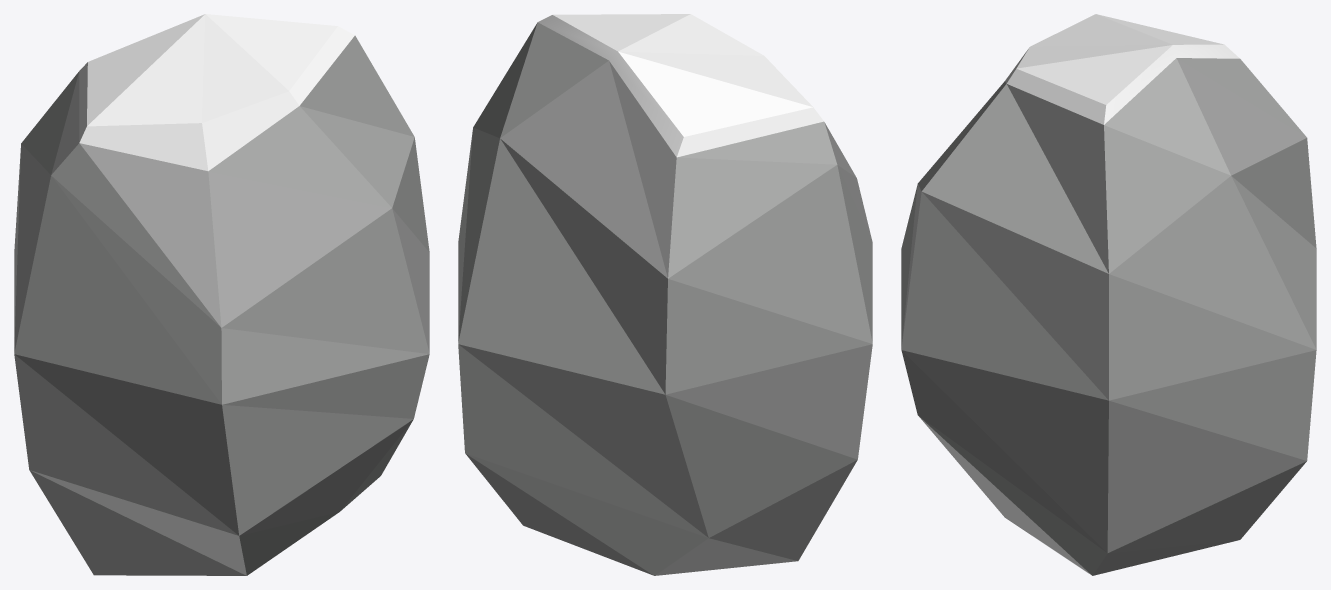
Rendered from Rock_Mid_Snow_1.fbx.
3 views of the same model, side by side, from view 1: azimuth 30°, elevation 25°; view 2: azimuth 150°, elevation 25°; view 3: azimuth 270°, elevation 25° (orthographic).
Parts seen in each view (by area): view 1: Rock_Mid_Snow_1; view 2: Rock_Mid_Snow_1; view 3: Rock_Mid_Snow_1.
Boxes of the visible parts, left/top/right/bottom form: Rock_Mid_Snow_1: left=14, top=14, right=429, bottom=575; Rock_Mid_Snow_1: left=458, top=14, right=872, bottom=575; Rock_Mid_Snow_1: left=901, top=14, right=1316, bottom=575.
Size of the model in its own units: 2 by 2.37 by 1.73.
